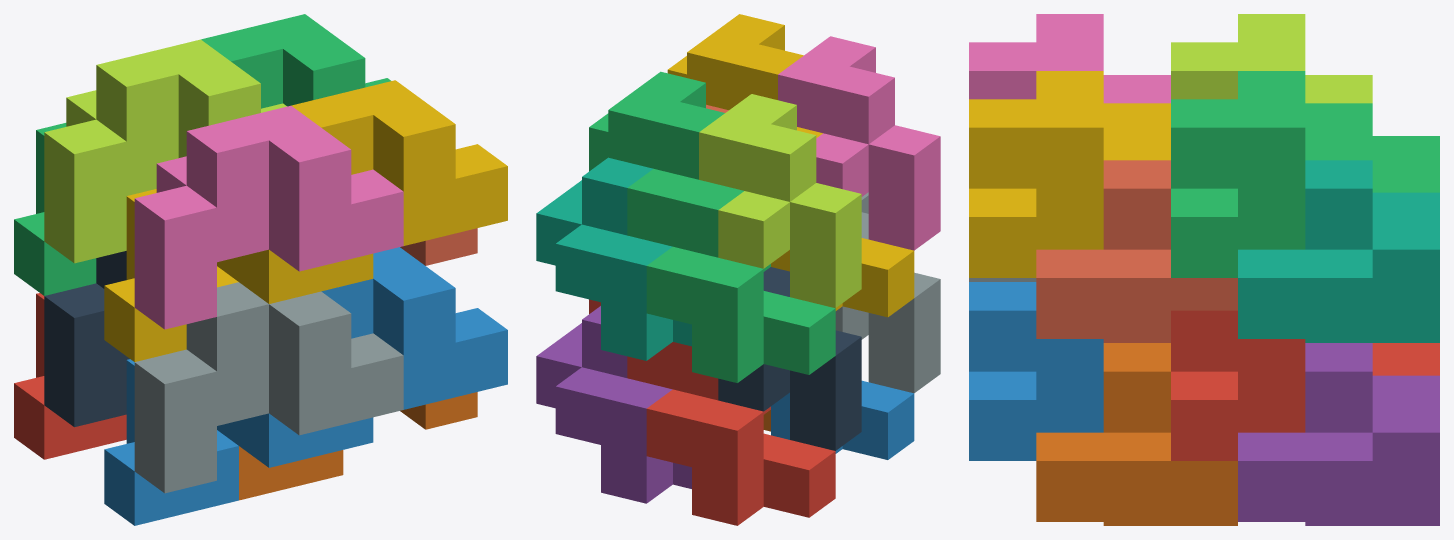
File: tiling.obj
The picture shows the model from 3 angles, left to right: view 1: azimuth 30°, elevation 25°; view 2: azimuth 150°, elevation 25°; view 3: azimuth 270°, elevation 25°; orthographic projection. The views are drawn at different scales.
Parts seen in each view (by area): view 1: copy_2_domain_4, copy_2_domain_2, copy_2_domain_3, copy_2_domain_8, copy_2_domain_6, copy_2_domain_1, copy_2_domain_7, copy_1_domain_2, copy_1_domain_4, copy_1_domain_1, copy_1_domain_6, copy_1_domain_3 (+1 smaller); view 2: copy_2_domain_3, copy_2_domain_4, copy_1_domain_3, copy_1_domain_1, copy_1_domain_7, copy_1_domain_5, copy_2_domain_7, copy_2_domain_1, copy_2_domain_2, copy_2_domain_8, copy_1_domain_2, copy_1_domain_4 (+1 smaller); view 3: copy_1_domain_5, copy_1_domain_7, copy_2_domain_8, copy_2_domain_7, copy_1_domain_6, copy_1_domain_8, copy_2_domain_6, copy_2_domain_5, copy_2_domain_4, copy_2_domain_3, copy_1_domain_3, copy_1_domain_1 (+2 smaller).
Boxes of the visible parts, bbox=[...] form: copy_2_domain_4: bbox=[134, 105, 403, 329]; copy_2_domain_2: bbox=[134, 282, 403, 493]; copy_2_domain_3: bbox=[44, 39, 286, 263]; copy_2_domain_8: bbox=[239, 80, 507, 303]; copy_2_domain_6: bbox=[239, 247, 507, 467]; copy_2_domain_1: bbox=[44, 251, 129, 427]; copy_2_domain_7: bbox=[201, 14, 390, 108]; copy_1_domain_2: bbox=[104, 359, 373, 525]; copy_1_domain_4: bbox=[104, 189, 373, 361]; copy_1_domain_1: bbox=[14, 293, 126, 459]; copy_1_domain_6: bbox=[239, 392, 477, 500]; copy_1_domain_3: bbox=[14, 123, 96, 295]; copy_2_domain_3: bbox=[699, 94, 861, 308]; copy_2_domain_4: bbox=[778, 36, 940, 250]; copy_1_domain_3: bbox=[646, 180, 835, 382]; copy_1_domain_1: bbox=[646, 342, 835, 525]; copy_1_domain_7: bbox=[536, 157, 691, 360]; copy_1_domain_5: bbox=[536, 306, 691, 503]; copy_2_domain_7: bbox=[589, 71, 770, 271]; copy_2_domain_1: bbox=[718, 267, 861, 450]; copy_2_domain_2: bbox=[835, 192, 940, 393]; copy_2_domain_8: bbox=[667, 14, 803, 109]; copy_1_domain_2: bbox=[771, 380, 914, 459]; copy_1_domain_4: bbox=[771, 127, 914, 317]; copy_1_domain_5: bbox=[1238, 343, 1439, 525]; copy_1_domain_7: bbox=[1238, 160, 1439, 342]; copy_2_domain_8: bbox=[969, 71, 1170, 277]; copy_2_domain_7: bbox=[1171, 71, 1372, 277]; copy_1_domain_6: bbox=[1036, 343, 1237, 525]; copy_1_domain_8: bbox=[1036, 160, 1237, 342]; copy_2_domain_6: bbox=[969, 282, 1103, 460]; copy_2_domain_5: bbox=[1171, 310, 1305, 460]; copy_2_domain_4: bbox=[969, 14, 1170, 103]; copy_2_domain_3: bbox=[1171, 14, 1372, 103]; copy_1_domain_3: bbox=[1238, 103, 1439, 249]; copy_1_domain_1: bbox=[1238, 343, 1439, 432].
Size of the model in its own units: 6 by 7 by 7.
